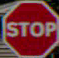Stop: (2, 5, 57, 47)
